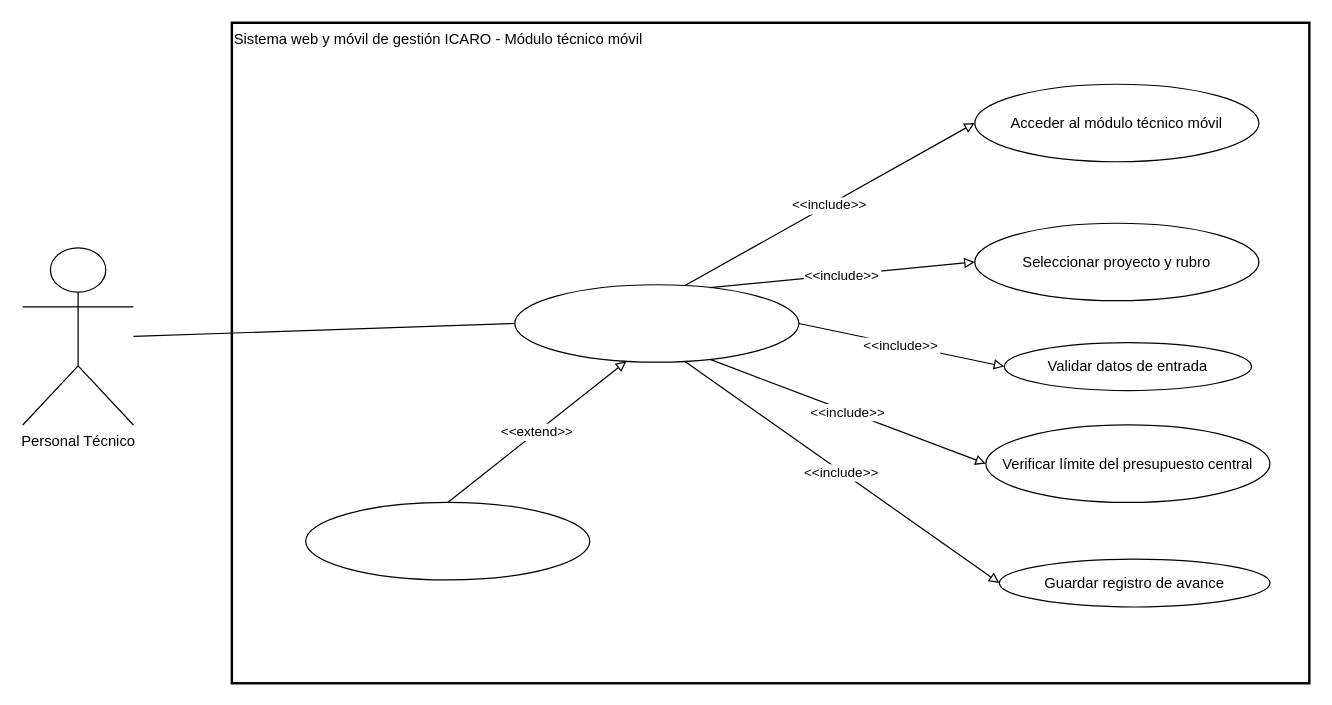
Some shapes in this 1332 by 705 pixel diagram are drawn without their labels. The shapes that lost their labels are listed below. From the top down, each one's box as (x1, y1, x2, y2) in pixels, then its label:
(514, 284, 799, 362): Registrar avance físico en obra
(304, 501, 590, 580): Bloquear registro por exceso de presupuesto
